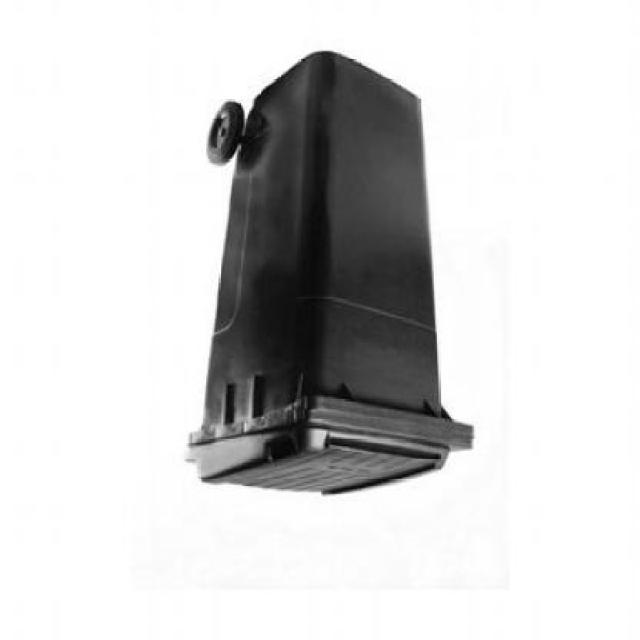garbage container: (174, 46, 485, 506)
